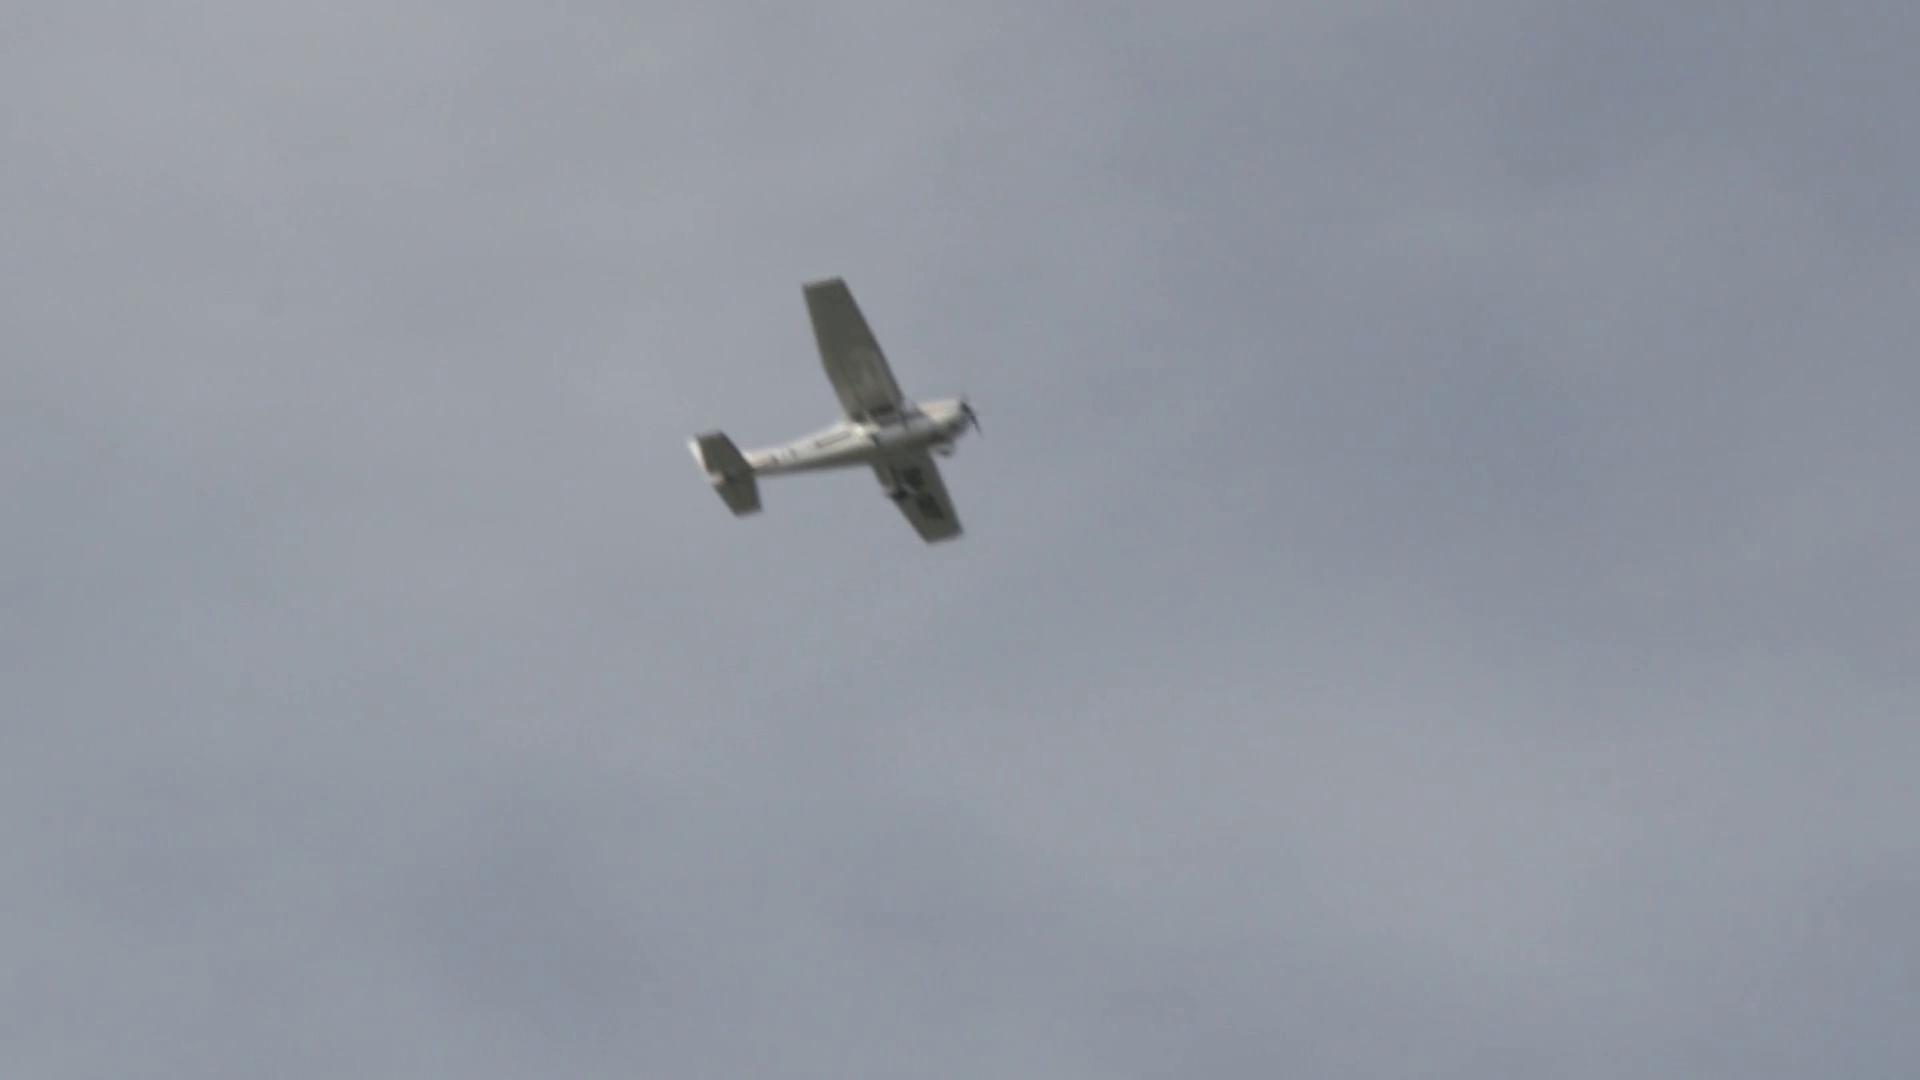plane: (688, 276, 975, 545)
